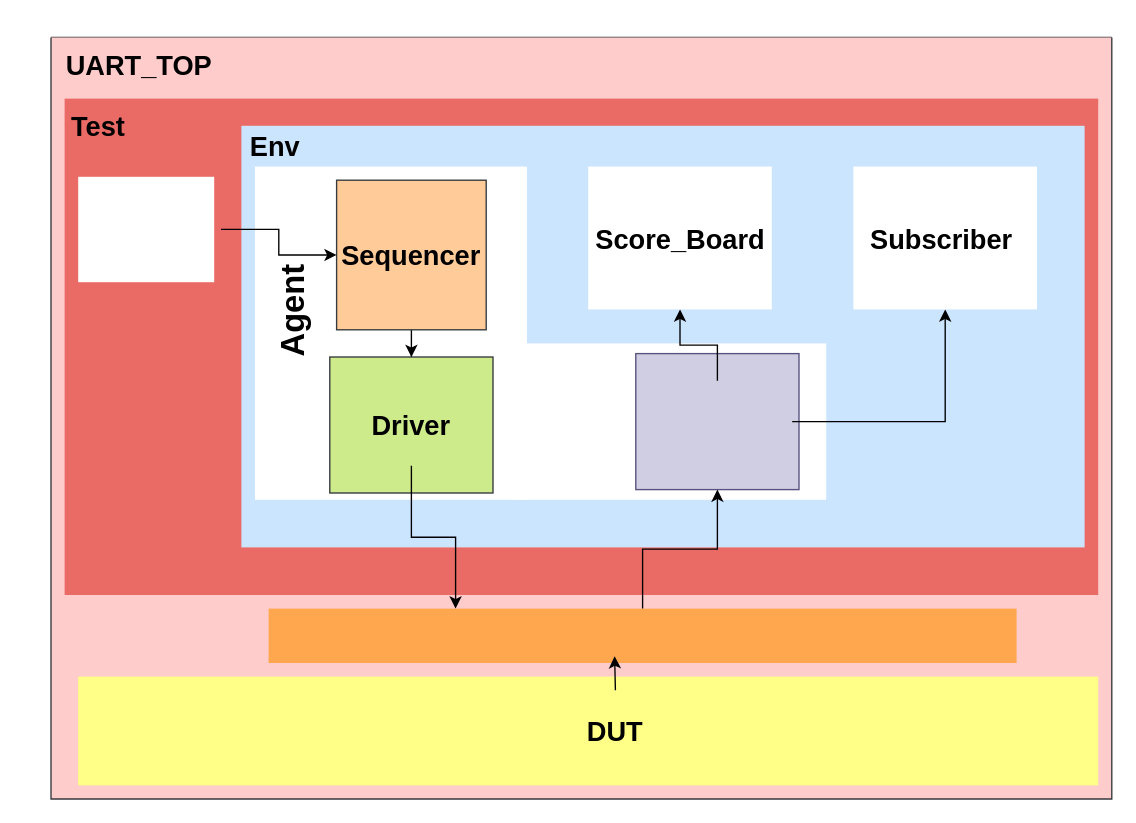
This 1136x823 diagram has some shape labels left out. The shapes that lost their labels are listed below. From the top down, each one's centre as x and y in pixels, then its label:
the point at 146,229: Sequence
the point at 716,421: Monitor
the point at 642,635: Interface
